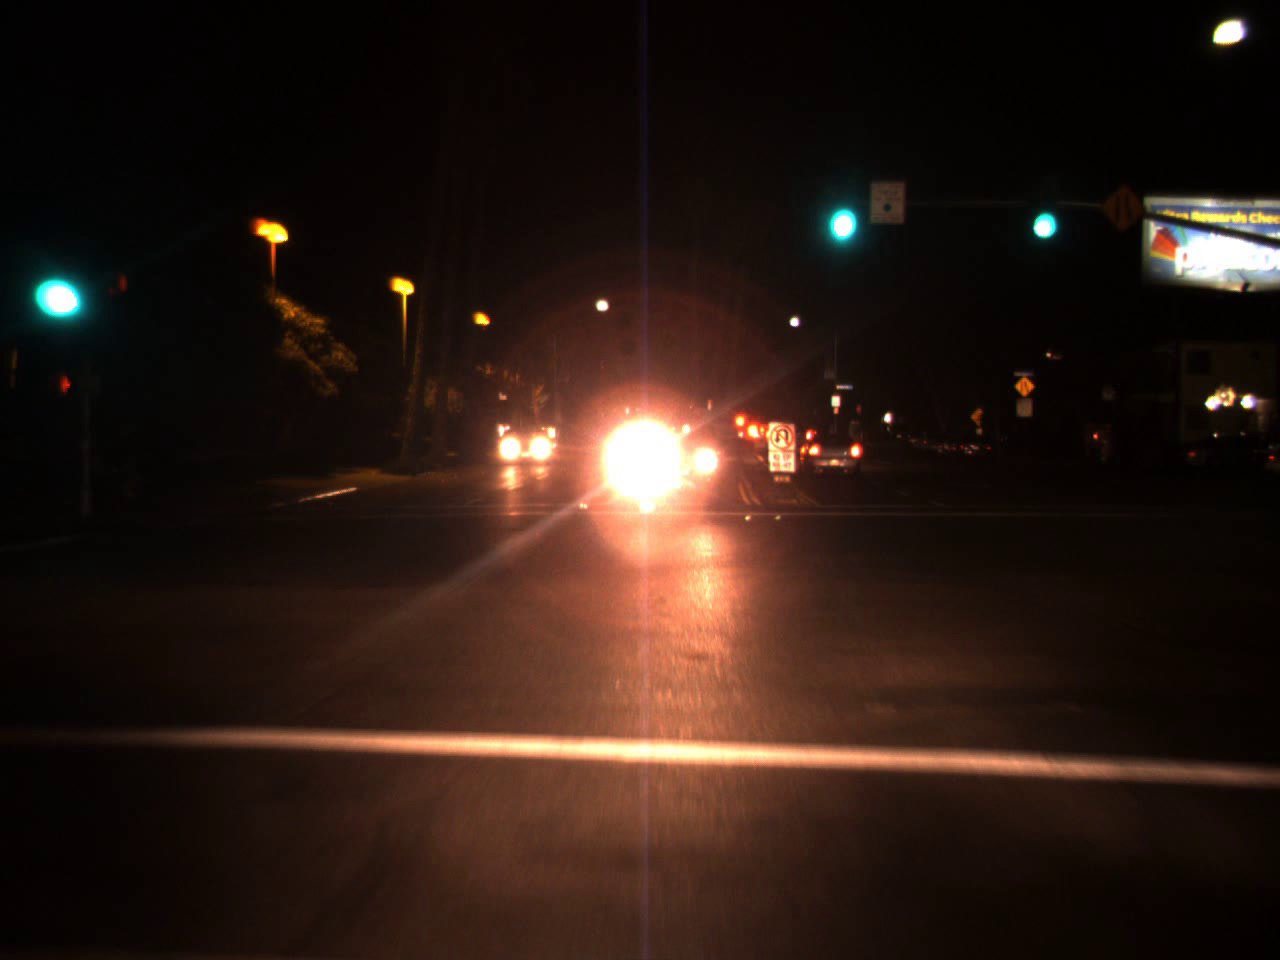go: (816, 166, 862, 253), (32, 247, 82, 325), (1019, 184, 1064, 247)
